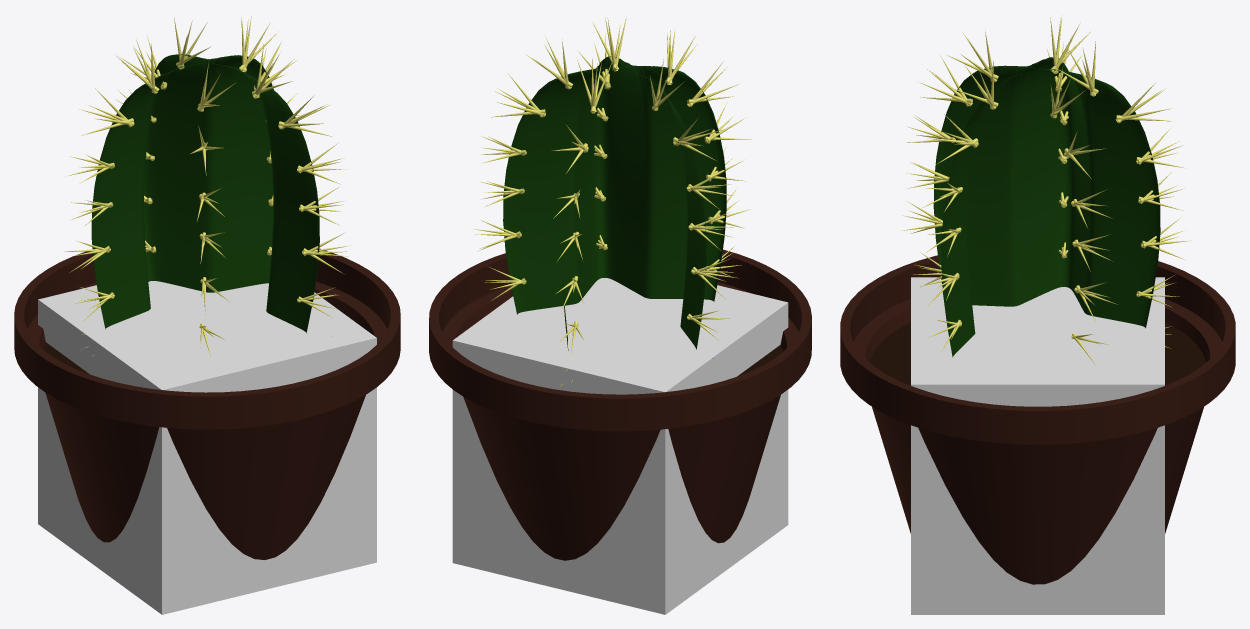
Rendered from Cactus.gltf.
3 renders of one model, left to right at view 1: azimuth 30°, elevation 25°; view 2: azimuth 150°, elevation 25°; view 3: azimuth 270°, elevation 25°, orthographic. The views are drawn at different scales.
Visible parts, largest first — view 1: Cube, Cylinder, Circle, Cone.004; view 2: Cube, Cylinder, Circle, Cone.004; view 3: Cylinder, Cube, Circle, Cone.004, Circle.001.
Boxes of the visible parts, x1=… form: Cube: x1=38, y1=281, x2=376, y2=614; Cylinder: x1=14, y1=248, x2=400, y2=559; Circle: x1=91, y1=54, x2=319, y2=333; Cone.004: x1=63, y1=16, x2=350, y2=356; Cube: x1=452, y1=278, x2=788, y2=614; Cylinder: x1=429, y1=249, x2=811, y2=560; Circle: x1=503, y1=56, x2=726, y2=350; Cone.004: x1=475, y1=15, x2=750, y2=386; Cylinder: x1=840, y1=255, x2=1235, y2=584; Cube: x1=911, y1=277, x2=1164, y2=614; Circle: x1=933, y1=57, x2=1160, y2=357; Cone.004: x1=901, y1=15, x2=1190, y2=365; Circle.001: x1=870, y1=322, x2=1205, y2=385.
Size of the model in its own units: 3.12 by 4.53 by 3.12.
